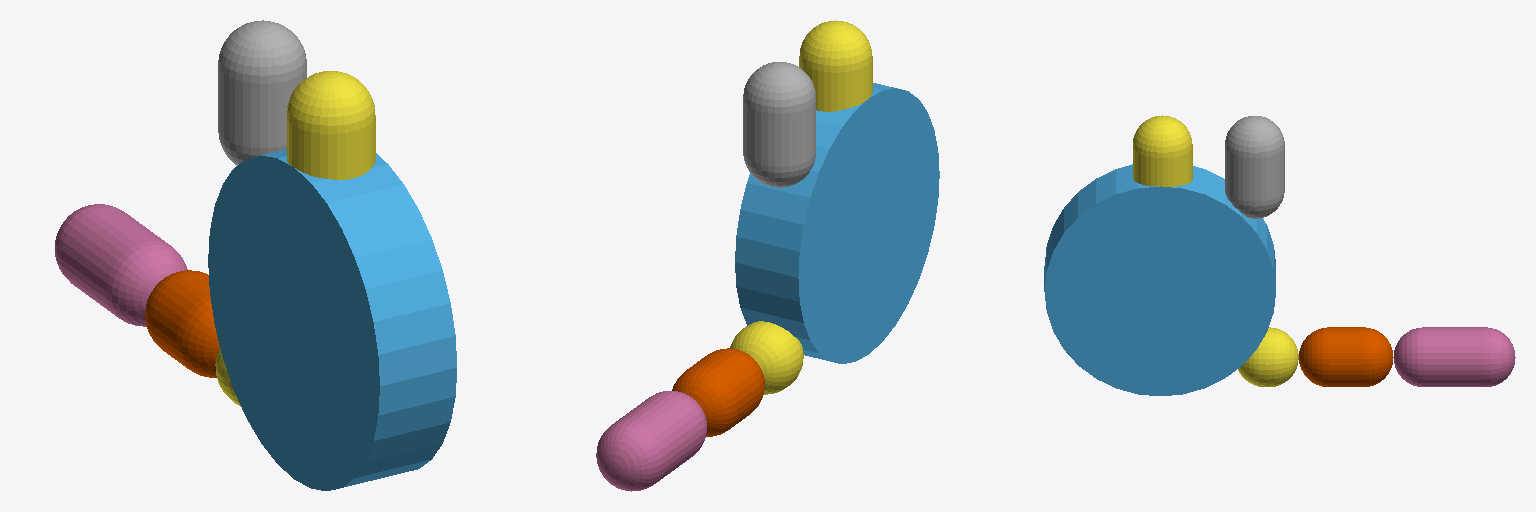
The robot description file, URDF, robot "DexterousHand":
<?xml version="1.0"?>
<robot name="DexterousHand">


    <link name="world"/>
    <joint name="world_to_palm" type="fixed">
        <parent link="world"/>
        <child link="palm"/>
        <origin xyz="0 0 0" rpy="0 0 0"/>
    </joint>
    <link name="palm">
        <inertial>
            <origin xyz="0 0 0.057" rpy="0 0 0"/>
            <mass value="0.30212892864"/>
            <inertia ixx="0.00049080844457568" ixy="0.0" ixz="0.0" iyy="0.00026746366246427523" iyz="0.0" izz="0.00026746366246427523"/>
        </inertial>
        <visual>
            <origin xyz="0 0 0.057" rpy="1.5708 0 1.5708"/>
            <geometry>
                <cylinder radius="0.057" length="0.0296"/>
            </geometry>
            <material name="default"/>
        </visual>
        <collision>
            <origin xyz="0 0 0.057" rpy="1.5708 0 1.5708"/>
            <geometry>
                <cylinder radius="0.057" length="0.0296"/>
            </geometry>
        </collision>
    </link>

    
    <joint name="thumb_joint1" type="revolute">
        <parent link="palm"/>
        <child link="thumb_base"/>
        <origin xyz="0.0029 0.0368 0.0157" rpy="-1.5708 -1.5708 0.0"/>
        <axis xyz="-1 0 0"/>
        <limit lower="-0.349" upper="2.094" effort="1.0" velocity="1.0"/>
    </joint>

    <link name="thumb_base"></link>

    <joint name="thumb_joint2" type="revolute">
        <parent link="thumb_base"/>
        <child link="thumb_proximal"/>
        <origin xyz="0.0 0.0 0.0" rpy="0.0 0.0 0.0"/>
        <axis xyz="0 0 1"/>
        <limit lower="-0.47" upper="2.443" effort="1.0" velocity="1.0"/>
    </joint>

    <link name="thumb_proximal">
        <inertial>
            <origin xyz="0 0 0.01565" rpy="0 0 0"/>
            <mass value="0.021538658803200002"/>
            <inertia ixx="2.9378910096388167e-06" ixy="0.0" ixz="0.0" 
            iyy="2.9378910096388167e-06" iyz="0.0" izz="2.358913912126464e-06"/>
        </inertial>
        <visual>
            <origin xyz="0 0 0.01565" rpy="0 0 0"/>
            <geometry>
                <cylinder radius="0.0148" length="0.0017000000000000001"/>
            </geometry>
            <material name="default"/>
        </visual>
        <visual>
            <origin xyz="0 0 0.0148" rpy="0 0 0"/>
            <geometry>
                <sphere radius="0.0148"/>
            </geometry>
            <material name="default"/>
        </visual>
        <visual>
            <origin xyz="0 0 0.0165" rpy="0 0 0"/>
            <geometry>
                <sphere radius="0.0148"/>
            </geometry>
            <material name="default"/>
        </visual>
        <collision>
            <origin xyz="0 0 0.01565" rpy="0 0 0"/>
            <geometry>
                <cylinder radius="0.0148" length="0.0017000000000000001"/>
            </geometry>
        </collision>
        <collision>
            <origin xyz="0 0 0.0148" rpy="0 0 0"/>
            <geometry>
                <sphere radius="0.0148"/>
            </geometry>
        </collision>
        <collision>
            <origin xyz="0 0 0.0165" rpy="0 0 0"/>
            <geometry>
                <sphere radius="0.0148"/>
            </geometry>
        </collision>
    </link>

    <joint name="thumb_joint3" type="revolute">
        <parent link="thumb_proximal"/>
        <child link="thumb_knuckle"/>
        <origin xyz="0.0 0.0 0.0313" rpy="0.0 0.0 0.0"/>
        <axis xyz="1 0 0"/>
        <limit lower="0.0" upper="0.0" effort="1.0" velocity="1.0"/>
    </joint>

    <link name="thumb_knuckle"></link>

    <joint name="thumb_joint4" type="revolute">
        <parent link="thumb_knuckle"/>
        <child link="thumb_middle"/>
        <origin xyz="0 0 0" rpy="0 0 0"/> 
        <axis xyz="0 1 0"/>
        <limit lower="-1.2" upper="1.9" effort="1.0" velocity="1.0"/>
    </joint>

    <link name="thumb_middle">
        <inertial>
            <origin xyz="0 0 0.0233" rpy="0 0 0"/>
            <mass value="0.032067140582400004"/>
            <inertia ixx="7.5589732685519385e-06" ixy="0.0" ixz="0.0" 
            iyy="7.5589732685519385e-06" iyz="0.0" izz="3.5119932365844485e-06"/>
        </inertial>
        <visual>
            <origin xyz="0 0 0.0233" rpy="0 0 0"/>
            <geometry>
                <cylinder radius="0.0148" length="0.017"/>
            </geometry>
            <material name="default"/>
        </visual>
        <visual>
            <origin xyz="0 0 0.0148" rpy="0 0 0"/>
            <geometry>
                <sphere radius="0.0148"/>
            </geometry>
            <material name="default"/>
        </visual>
        <visual>
            <origin xyz="0 0 0.0318" rpy="0 0 0"/>
            <geometry>
                <sphere radius="0.0148"/>
            </geometry>
            <material name="default"/>
        </visual>
        <collision>
            <origin xyz="0 0 0.0233" rpy="0 0 0"/>
            <geometry>
                <cylinder radius="0.0148" length="0.017"/>
            </geometry>
        </collision>
        <collision>
            <origin xyz="0 0 0.0148" rpy="0 0 0"/>
            <geometry>
                <sphere radius="0.0148"/>
            </geometry>
        </collision>
        <collision>
            <origin xyz="0 0 0.0318" rpy="0 0 0"/>
            <geometry>
                <sphere radius="0.0148"/>
            </geometry>
        </collision>
    </link>

    <joint name="thumb_joint5" type="revolute">
        <parent link="thumb_middle"/>
        <child link="thumb_distal"/>
        <origin xyz="0 0 0.0466" rpy="0 0 0"/> 
        <axis xyz="0 1 0"/>
        <limit lower="-1.34" upper="1.88" effort="1.0" velocity="1.0"/>
    </joint>

    <link name="thumb_distal">
        <inertial>
            <origin xyz="0 0 0.03" rpy="0 0 0"/>
            <mass value="0.04128816384"/>
            <inertia ixx="1.46473890038784e-05" ixy="0.0" ixz="0.0" 
            iyy="1.46473890038784e-05" iyz="0.0" izz="4.521879703756801e-06"/>
        </inertial>
        <visual>
            <origin xyz="0 0 0.03" rpy="0 0 0"/>
            <geometry>
                <cylinder radius="0.0148" length="0.030399999999999996"/>
            </geometry>
            <material name="default"/>
        </visual>
        <visual>
            <origin xyz="0 0 0.0148" rpy="0 0 0"/>
            <geometry>
                <sphere radius="0.0148"/>
            </geometry>
            <material name="default"/>
        </visual>
        <visual>
            <origin xyz="0 0 0.0452" rpy="0 0 0"/>
            <geometry>
                <sphere radius="0.0148"/>
            </geometry>
            <material name="default"/>
        </visual>
        <collision>
            <origin xyz="0 0 0.03" rpy="0 0 0"/>
            <geometry>
                <cylinder radius="0.0148" length="0.030399999999999996"/>
            </geometry>
        </collision>
        <collision>
            <origin xyz="0 0 0.0148" rpy="0 0 0"/>
            <geometry>
                <sphere radius="0.0148"/>
            </geometry>
        </collision>
        <collision>
            <origin xyz="0 0 0.0452" rpy="0 0 0"/>
            <geometry>
                <sphere radius="0.0148"/>
            </geometry>
        </collision>
    </link>

    
    <joint name="index_joint1" type="revolute">
        <parent link="palm"/>
        <child link="index_proximal"/>
        <origin xyz="0.0 0.0465 0.091" rpy="0.0 0.0 0.0"/>
        <axis xyz="0 1 0"/>
        <limit lower="-0.314" upper="2.23" effort="1.0" velocity="1.0"/>
    </joint>

    <link name="index_proximal">
        <inertial>
            <origin xyz="0 0 0.02655" rpy="0 0 0"/>
            <mass value="0.036540024998400006"/>
            <inertia ixx="1.058665009272394e-05" ixy="0.0" ixz="0.0" 
            iyy="1.058665009272394e-05" iyz="0.0" izz="4.001863537824769e-06"/>
        </inertial>
        <visual>
            <origin xyz="0 0 0.02655" rpy="0 0 0"/>
            <geometry>
                <cylinder radius="0.0148" length="0.0235"/>
            </geometry>
            <material name="default"/>
        </visual>
        <visual>
            <origin xyz="0 0 0.0148" rpy="0 0 0"/>
            <geometry>
                <sphere radius="0.0148"/>
            </geometry>
            <material name="default"/>
        </visual>
        <visual>
            <origin xyz="0 0 0.0383" rpy="0 0 0"/>
            <geometry>
                <sphere radius="0.0148"/>
            </geometry>
            <material name="default"/>
        </visual>
        <collision>
            <origin xyz="0 0 0.02655" rpy="0 0 0"/>
            <geometry>
                <cylinder radius="0.0148" length="0.0235"/>
            </geometry>
        </collision>
        <collision>
            <origin xyz="0 0 0.0148" rpy="0 0 0"/>
            <geometry>
                <sphere radius="0.0148"/>
            </geometry>
        </collision>
        <collision>
            <origin xyz="0 0 0.0383" rpy="0 0 0"/>
            <geometry>
                <sphere radius="0.0148"/>
            </geometry>
        </collision>
    </link>

    <joint name="index_joint2" type="revolute">
        <parent link="index_proximal"/>
        <child link="index_dummy"/>
        <origin xyz="0.0 0.0 0.038" rpy="0.0 0.0 0.0"/>
        <axis xyz="0 1 0"/>
        <limit lower="0.0" upper="0.0" effort="1.0" velocity="1.0"/>
    </joint>

    <link name="index_dummy"></link>

    <joint name="index_joint3" type="revolute">
        <parent link="index_dummy"/>
        <child link="index_middle"/>
        <origin xyz="0 0 0.015100000000000002" rpy="0 0 0"/>
        <axis xyz="0 1 0"/>
        <limit lower="0.0" upper="0.0" effort="1.0" velocity="1.0"/>
    </joint>

    <link name="index_middle">
    </link>

    <joint name="index_joint4" type="revolute">
        <parent link="index_middle"/>
        <child link="index_distal"/>
        <origin xyz="0 0 0" rpy="0 0 0"/> 
        <axis xyz="0 1 0"/>
        <limit lower="0.0" upper="0.0" effort="1.0" velocity="1.0"/>
    </joint>

    <link name="index_distal">
    </link>

    
    <joint name="middle_joint1" type="revolute">
        <parent link="palm"/>
        <child link="middle_proximal"/>
        <origin xyz="0.0 0.0011 0.091" rpy="0.0 0.0 0.0"/>
        <axis xyz="0 1 0"/>
        <limit lower="-0.314" upper="2.23" effort="1.0" velocity="1.0"/>
    </joint>

    <link name="middle_proximal">
        <inertial>
            <origin xyz="0 0 0.02655" rpy="0 0 0"/>
            <mass value="0.036540024998400006"/>
            <inertia ixx="1.058665009272394e-05" ixy="0.0" ixz="0.0" 
            iyy="1.058665009272394e-05" iyz="0.0" izz="4.001863537824769e-06"/>
        </inertial>
        <visual>
            <origin xyz="0 0 0.02655" rpy="0 0 0"/>
            <geometry>
                <cylinder radius="0.0148" length="0.0235"/>
            </geometry>
            <material name="default"/>
        </visual>
        <visual>
            <origin xyz="0 0 0.0148" rpy="0 0 0"/>
            <geometry>
                <sphere radius="0.0148"/>
            </geometry>
            <material name="default"/>
        </visual>
        <visual>
            <origin xyz="0 0 0.0383" rpy="0 0 0"/>
            <geometry>
                <sphere radius="0.0148"/>
            </geometry>
            <material name="default"/>
        </visual>
        <collision>
            <origin xyz="0 0 0.02655" rpy="0 0 0"/>
            <geometry>
                <cylinder radius="0.0148" length="0.0235"/>
            </geometry>
        </collision>
        <collision>
            <origin xyz="0 0 0.0148" rpy="0 0 0"/>
            <geometry>
                <sphere radius="0.0148"/>
            </geometry>
        </collision>
        <collision>
            <origin xyz="0 0 0.0383" rpy="0 0 0"/>
            <geometry>
                <sphere radius="0.0148"/>
            </geometry>
        </collision>
    </link>

    <joint name="middle_joint2" type="revolute">
        <parent link="middle_proximal"/>
        <child link="middle_dummy"/>
        <origin xyz="0.0 0.0 0.038" rpy="0.0 0.0 0.0"/>
        <axis xyz="0 1 0"/>
        <limit lower="0.0" upper="0.0" effort="1.0" velocity="1.0"/>
    </joint>

    <link name="middle_dummy"></link>

    <joint name="middle_joint3" type="revolute">
        <parent link="middle_dummy"/>
        <child link="middle_middle"/>
        <origin xyz="0 0 0.015100000000000002" rpy="0 0 0"/>
        <axis xyz="0 1 0"/>
        <limit lower="0.0" upper="0.0" effort="1.0" velocity="1.0"/>
    </joint>

    <link name="middle_middle">
    </link>

    <joint name="middle_joint4" type="revolute">
        <parent link="middle_middle"/>
        <child link="middle_distal"/>
        <origin xyz="0 0 0" rpy="0 0 0"/> 
        <axis xyz="0 1 0"/>
        <limit lower="0.0" upper="0.0" effort="1.0" velocity="1.0"/>
    </joint>

    <link name="middle_distal">
    </link>

    
    <joint name="ring_joint1" type="revolute">
        <parent link="palm"/>
        <child link="ring_proximal"/>
        <origin xyz="0.0 0.0 0.0" rpy="0.0 0.0 0.0"/>
        <axis xyz="1 0 0"/>
        <limit lower="0.0" upper="0.0" effort="1.0" velocity="1.0"/>
    </joint>

    <link name="ring_proximal">
    </link>

    <joint name="ring_joint2" type="revolute">
        <parent link="ring_proximal"/>
        <child link="ring_dummy"/>
        <origin xyz="0.0 0.0 0.0" rpy="0.0 0.0 0.0"/>
        <axis xyz="0 1 0"/>
        <limit lower="0.0" upper="0.0" effort="1.0" velocity="1.0"/>
    </joint>

    <link name="ring_dummy"></link>

    <joint name="ring_joint3" type="revolute">
        <parent link="ring_dummy"/>
        <child link="ring_middle"/>
        <origin xyz="0 0 0" rpy="0 0 0"/>
        <axis xyz="0 1 0"/>
        <limit lower="0.0" upper="0.0" effort="1.0" velocity="1.0"/>
    </joint>

    <link name="ring_middle">
    </link>

    <joint name="ring_joint4" type="revolute">
        <parent link="ring_middle"/>
        <child link="ring_distal"/>
        <origin xyz="0 0 0" rpy="0 0 0"/> 
        <axis xyz="0 1 0"/>
        <limit lower="0.0" upper="0.0" effort="1.0" velocity="1.0"/>
    </joint>

    <link name="ring_distal">
    </link>

    
    <joint name="little_joint0" type="revolute">
        <parent link="palm"/>
        <child link="little_base"/>
        <origin xyz="0.0 0.0 0.0" rpy="0.0 0.0 0.0"/>
        <axis xyz="0 1 0"/>
        <limit lower="0.0" upper="0.0" effort="1.0" velocity="1.0"/>
    </joint>

    <link name="little_base"></link>

    <joint name="little_joint1" type="revolute">
        <parent link="little_base"/>
        <child link="little_proximal"/>
        <origin xyz="0.0 0.0 0.0" rpy="-0.0 -0.0 -0.0"/>
        <axis xyz="1 0 0"/>
        <limit lower="0.0" upper="0.0" effort="1.0" velocity="1.0"/>
    </joint>

    <link name="little_proximal">
    </link>

    <joint name="little_joint2" type="revolute">
        <parent link="little_proximal"/>
        <child link="little_dummy"/>
        <origin xyz="0.0 0.0 0.0" rpy="0.0 0.0 0.0"/>
        <axis xyz="0 1 0"/>
        <limit lower="0.0" upper="0.0" effort="1.0" velocity="1.0"/>
    </joint>

    <link name="little_dummy"></link>

    <joint name="little_joint3" type="revolute">
        <parent link="little_dummy"/>
        <child link="little_middle"/>
        <origin xyz="0 0 0" rpy="0 0 0"/>
        <axis xyz="0 1 0"/>
        <limit lower="0.0" upper="0.0" effort="1.0" velocity="1.0"/>
    </joint>

    <link name="little_middle">
    </link>

    <joint name="little_joint4" type="revolute">
        <parent link="little_middle"/>
        <child link="little_distal"/>
        <origin xyz="0 0 0" rpy="0 0 0"/>
        <axis xyz="0 1 0"/>
        <limit lower="0.0" upper="0.0" effort="1.0" velocity="1.0"/>
    </joint>

    <link name="little_distal">
    </link>

</robot>

--- Facts derived from the render (not from the file) ---
Views: 3 orthographic renders of the robot side by side, from view 1: azimuth 30°, elevation 25°; view 2: azimuth 150°, elevation 25°; view 3: azimuth 270°, elevation 25°.
Model DexterousHand with 24 links and 23 joints (22 revolute, 1 fixed), rooted at world, posed every joint at zero.
Links seen in each view (by area): view 1: palm, index_proximal, thumb_distal, middle_proximal, thumb_middle; view 2: palm, index_proximal, thumb_distal, middle_proximal, thumb_middle, thumb_proximal; view 3: palm, thumb_distal, index_proximal, thumb_middle, middle_proximal, thumb_proximal.
Boxes of the visible links, x1=… form: palm: x1=208, y1=149, x2=456, y2=490; index_proximal: x1=218, y1=20, x2=306, y2=165; thumb_distal: x1=55, y1=204, x2=187, y2=326; middle_proximal: x1=287, y1=71, x2=375, y2=179; thumb_middle: x1=145, y1=270, x2=219, y2=377; palm: x1=735, y1=83, x2=939, y2=363; index_proximal: x1=743, y1=62, x2=815, y2=187; thumb_distal: x1=596, y1=391, x2=706, y2=491; middle_proximal: x1=799, y1=20, x2=872, y2=111; thumb_middle: x1=672, y1=348, x2=764, y2=436; thumb_proximal: x1=730, y1=321, x2=803, y2=394; palm: x1=1044, y1=164, x2=1275, y2=395; thumb_distal: x1=1394, y1=327, x2=1515, y2=386; index_proximal: x1=1225, y1=116, x2=1284, y2=218; thumb_middle: x1=1299, y1=327, x2=1393, y2=386; middle_proximal: x1=1133, y1=115, x2=1192, y2=186; thumb_proximal: x1=1238, y1=327, x2=1298, y2=386.
Size in the robot's own frame: 0.0325 by 0.2317 by 0.1441 metres.
Geometry: primitives only (box / cylinder / sphere), no mesh files.
